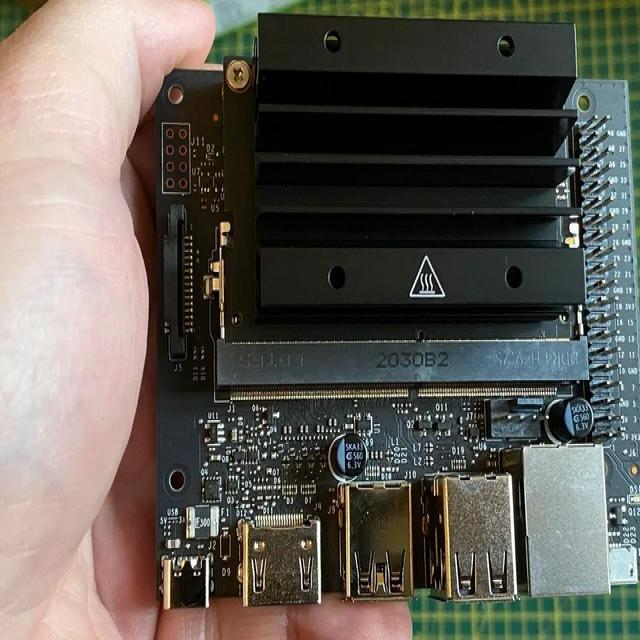Jetson Nano: (156, 14, 638, 610)
